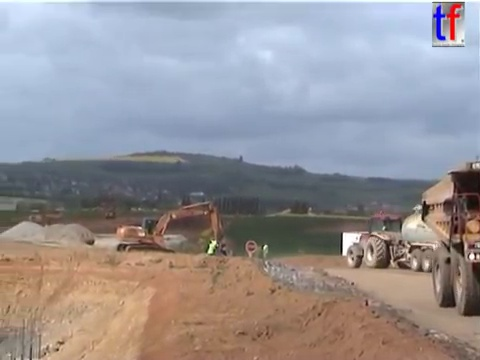excavator: (114, 199, 235, 263)
truck: (418, 158, 480, 318), (344, 203, 480, 273), (45, 208, 62, 226), (27, 208, 43, 226), (102, 208, 115, 220)
worker: (259, 240, 271, 263), (204, 240, 216, 261), (208, 236, 220, 256)
